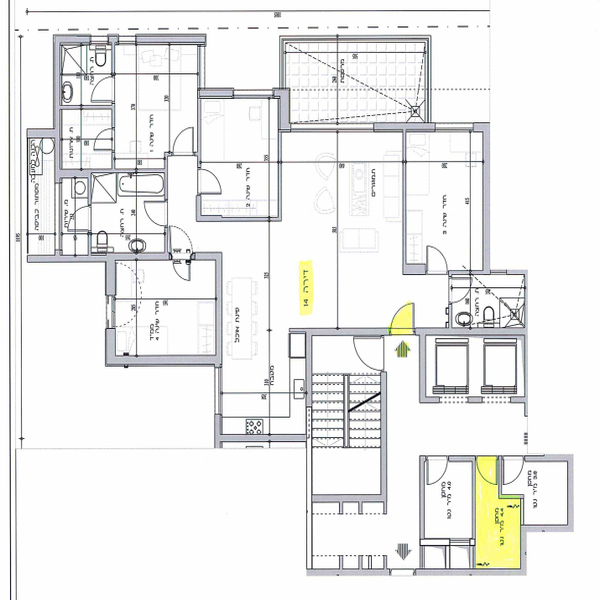door: (144, 198, 173, 228), (425, 244, 448, 281), (87, 77, 118, 103), (502, 451, 525, 486), (428, 458, 452, 491), (90, 124, 115, 154), (67, 205, 89, 235), (198, 171, 225, 195), (174, 125, 195, 155), (452, 277, 474, 300), (177, 258, 190, 282)
room: (303, 325, 388, 503), (400, 124, 491, 275), (104, 254, 222, 368), (111, 33, 197, 172), (196, 91, 286, 223), (416, 325, 525, 408), (497, 454, 575, 535), (420, 455, 476, 545), (55, 31, 117, 105), (54, 103, 114, 174)
wall: (53, 38, 63, 176), (483, 121, 490, 277), (137, 32, 207, 47), (379, 374, 387, 503), (216, 254, 225, 364), (106, 354, 226, 362), (307, 567, 388, 578), (418, 569, 524, 575), (313, 494, 389, 502), (105, 253, 117, 297), (376, 123, 433, 131)
window: (212, 364, 226, 414), (235, 88, 273, 100)
